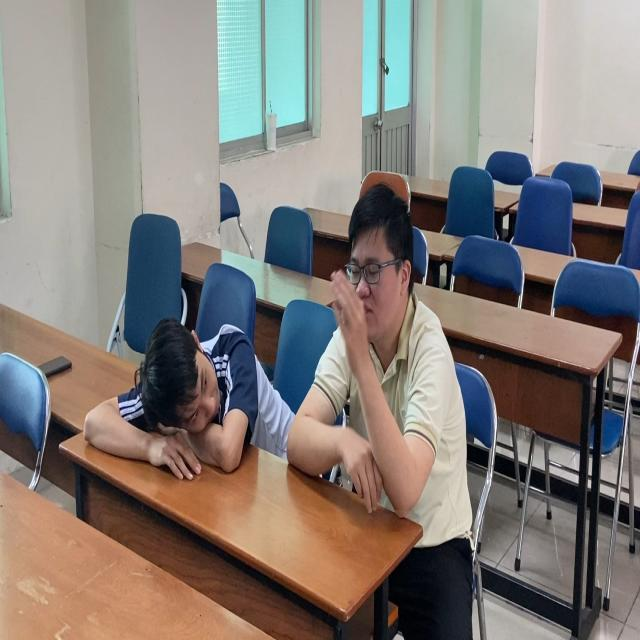raise_hand: (330, 185, 460, 531)
sleep: (83, 304, 284, 499)
